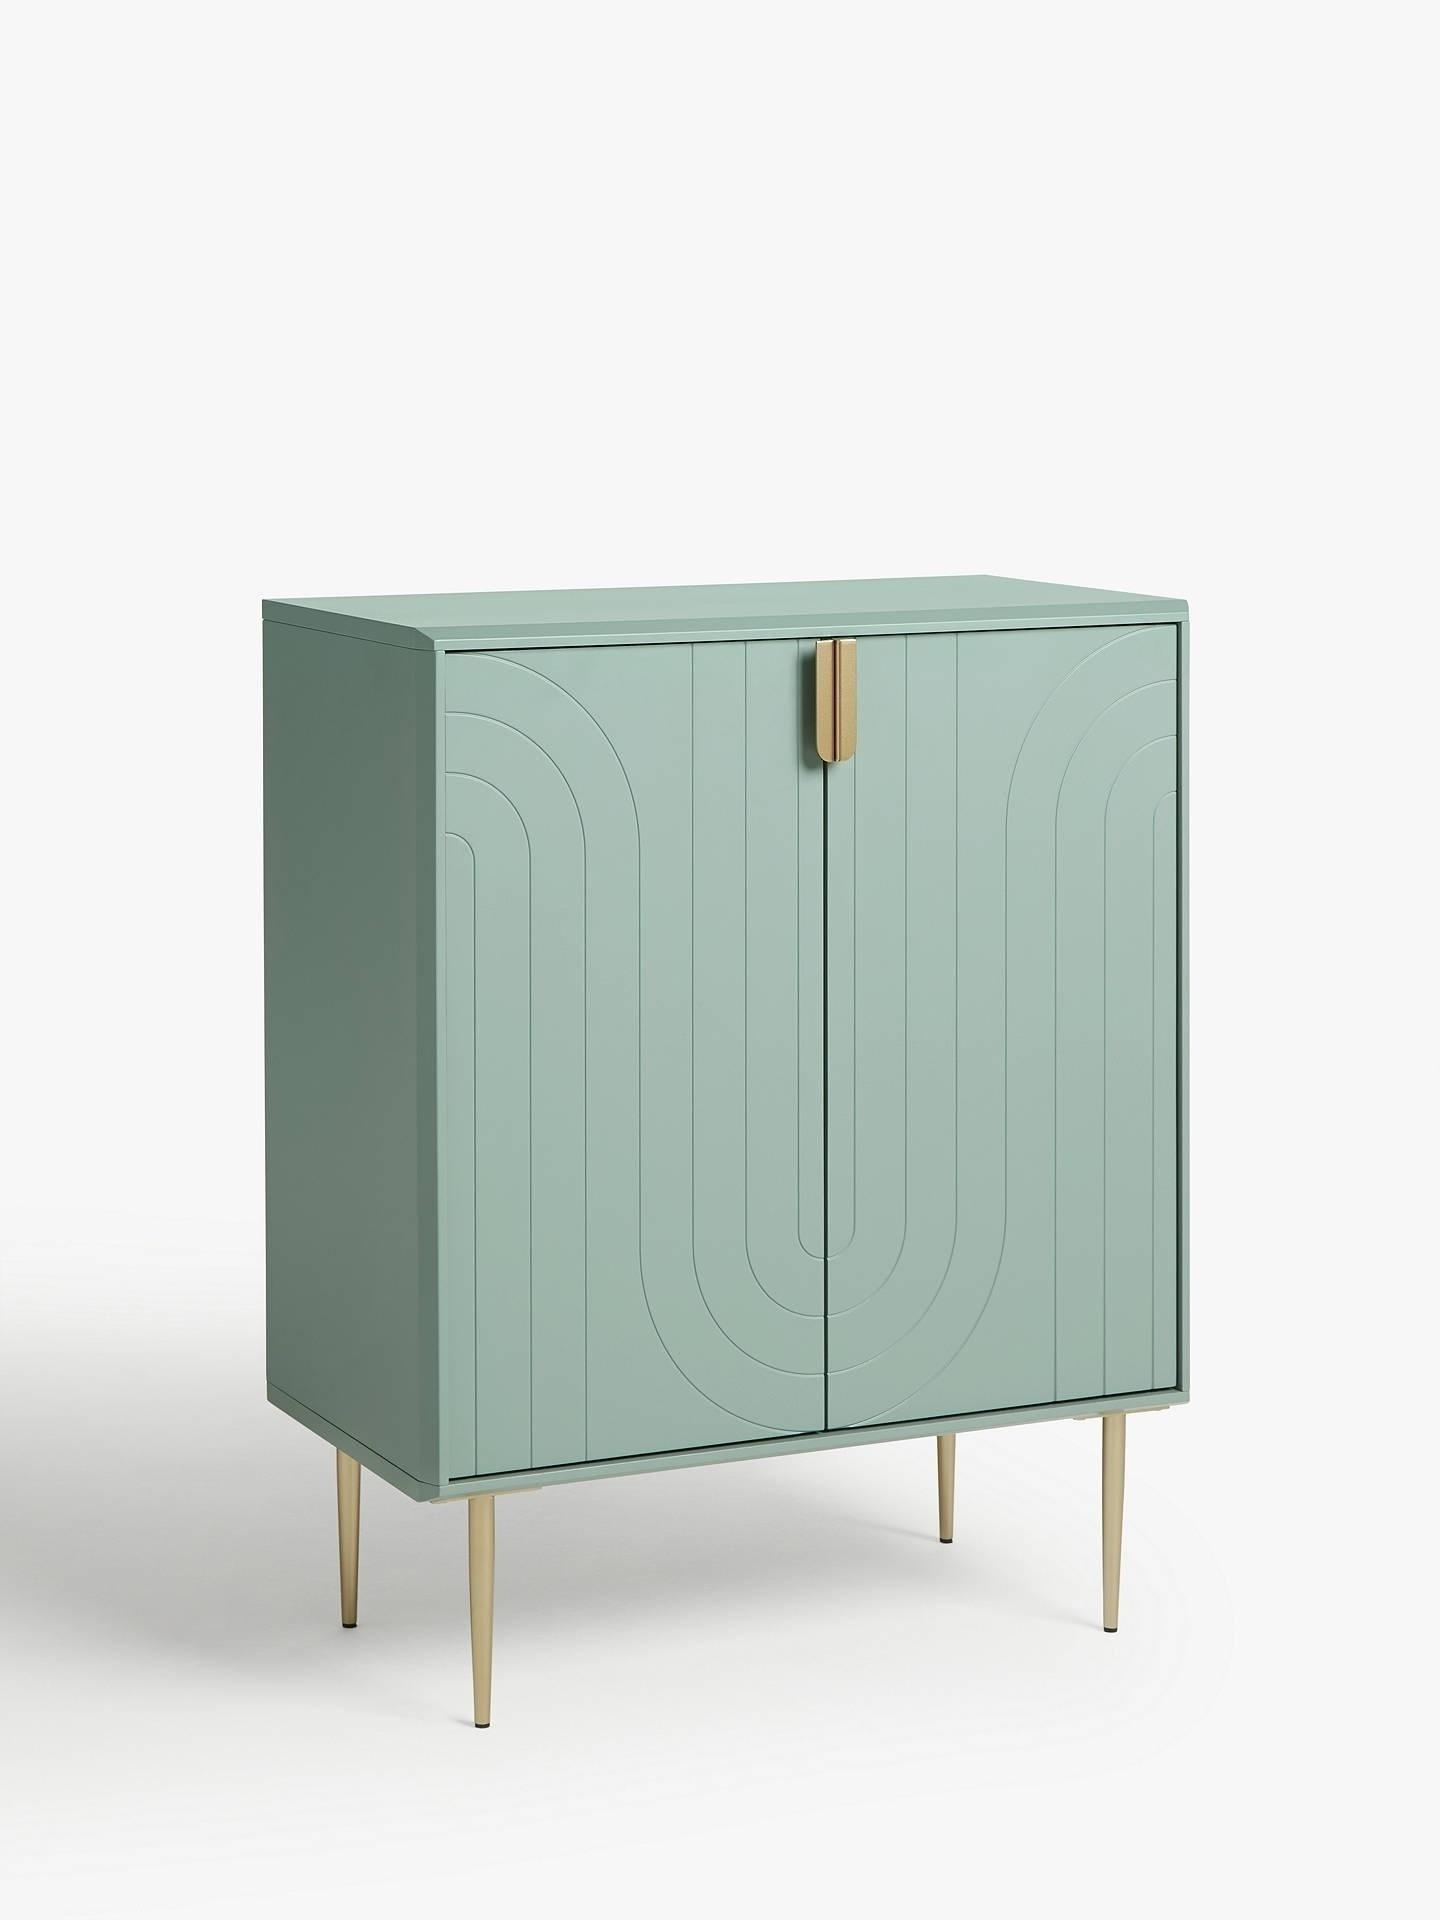cabinet_door: (455, 658, 833, 1457), (830, 646, 1168, 1417)
handle: (793, 647, 832, 779), (830, 633, 867, 774)
